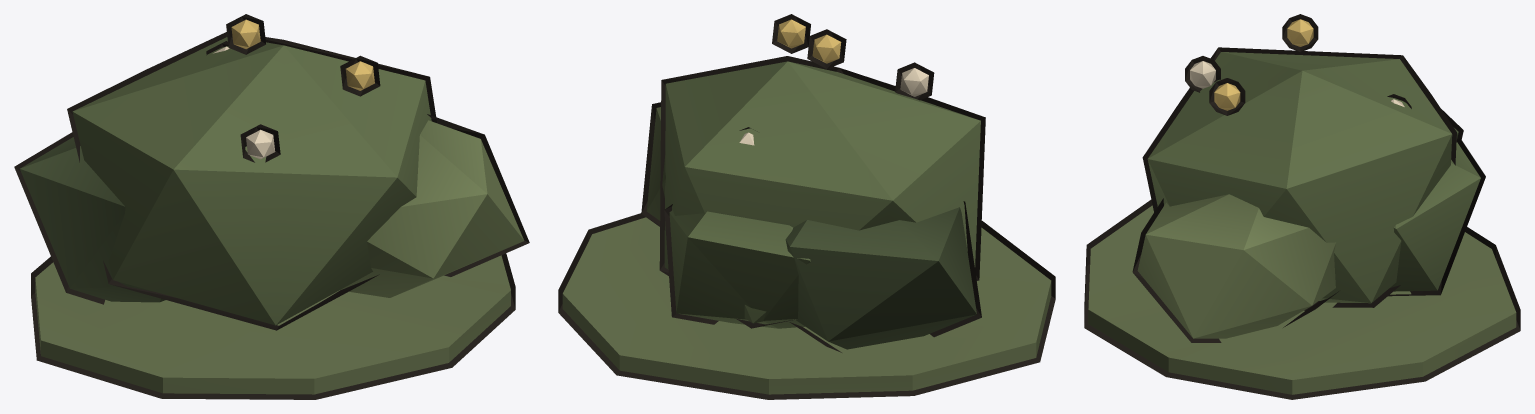
File: buisson.glb
3 renders of one model, left to right at view 1: azimuth 30°, elevation 25°; view 2: azimuth 150°, elevation 25°; view 3: azimuth 270°, elevation 25°, orthographic. The views are drawn at different scales.
Parts seen in each view (by area): view 1: buisson, buisson_outline; view 2: buisson, buisson_outline; view 3: buisson, buisson_outline.
Boxes of the visible parts, x1,y1,x2,y2 form: buisson: (20,19,524,394); buisson_outline: (14,14,529,399); buisson: (562,19,1051,394); buisson_outline: (558,14,1055,399); buisson: (1088,19,1516,394); buisson_outline: (1084,14,1520,399).
Size of the model in its own units: 1.23 by 0.7833 by 1.07.
